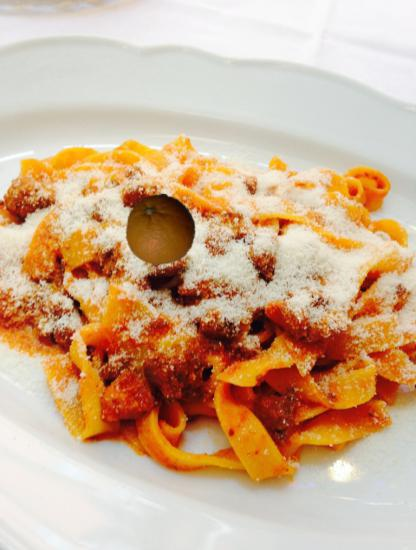Orange: (125, 194, 197, 266)
